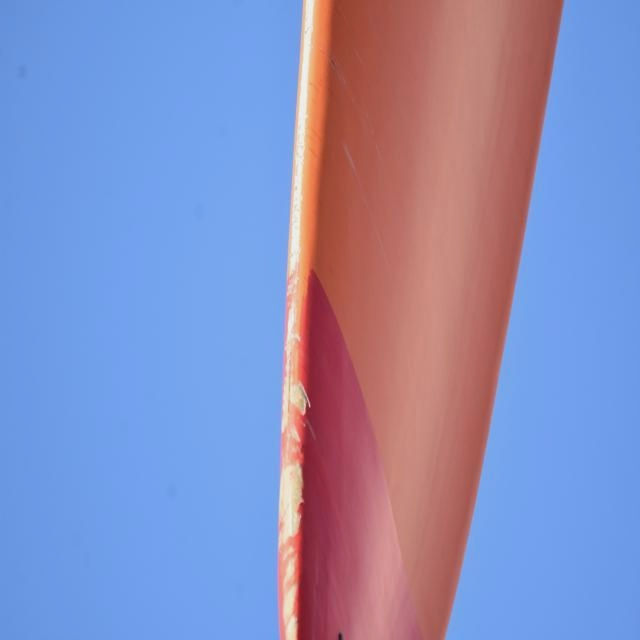Coating_defects: (282, 375, 315, 423)
EROSION: (281, 279, 303, 640)
